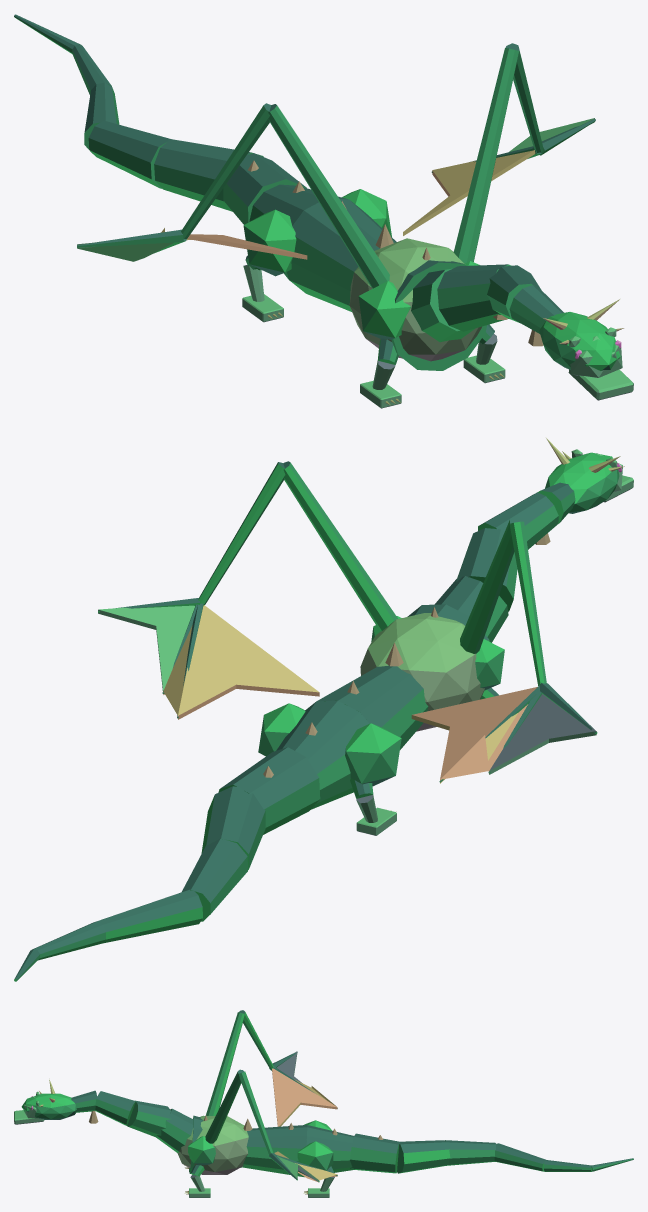
Rendered from creature_dragon_threat_v01.glb.
3 renders of one model, top to bottom at view 1: azimuth 30°, elevation 25°; view 2: azimuth 150°, elevation 25°; view 3: azimuth 270°, elevation 25°, orthographic. The views are drawn at different scales.
Parts seen in each view (by area): view 1: GEO_creature_dragon_threat_v01; view 2: GEO_creature_dragon_threat_v01; view 3: GEO_creature_dragon_threat_v01.
Part boxes in pixels (x1=…): GEO_creature_dragon_threat_v01: x1=14, y1=14, x2=633, y2=408; GEO_creature_dragon_threat_v01: x1=14, y1=438, x2=633, y2=981; GEO_creature_dragon_threat_v01: x1=14, y1=1010, x2=633, y2=1197.
Size of the model in its own units: 19.54 by 10.08 by 40.
